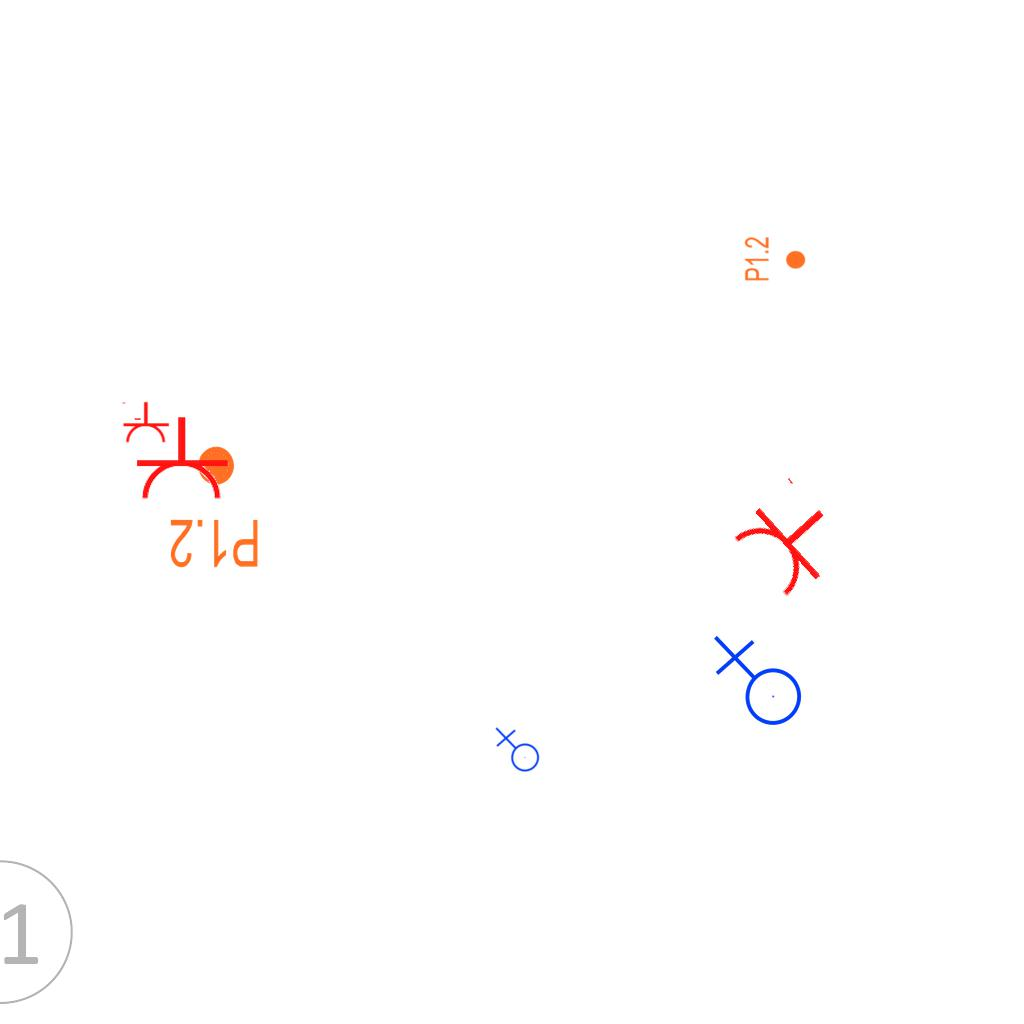Downlight_LED_Einbauleuchten_Flur: (168, 443, 261, 571), (743, 236, 807, 282)
Elektroanschluss_allgemein_230V_Geraeteanschlussdose_230V: (709, 635, 803, 734), (493, 727, 540, 776)
Schukosteckdose_einfach: (723, 472, 856, 606), (130, 415, 230, 502), (120, 401, 170, 444)
